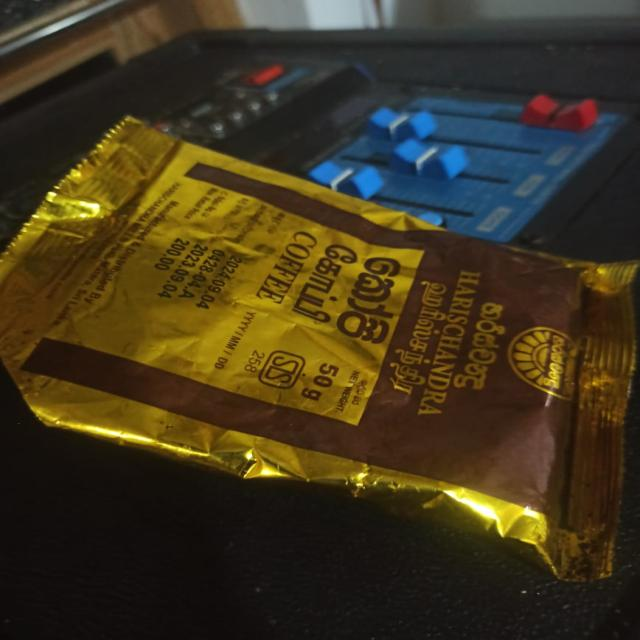Harischandra Coffee: (0, 114, 640, 524)
